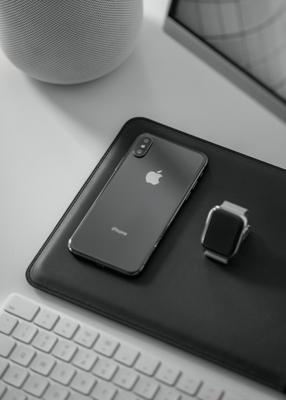cell-phone: (65, 121, 211, 277)
